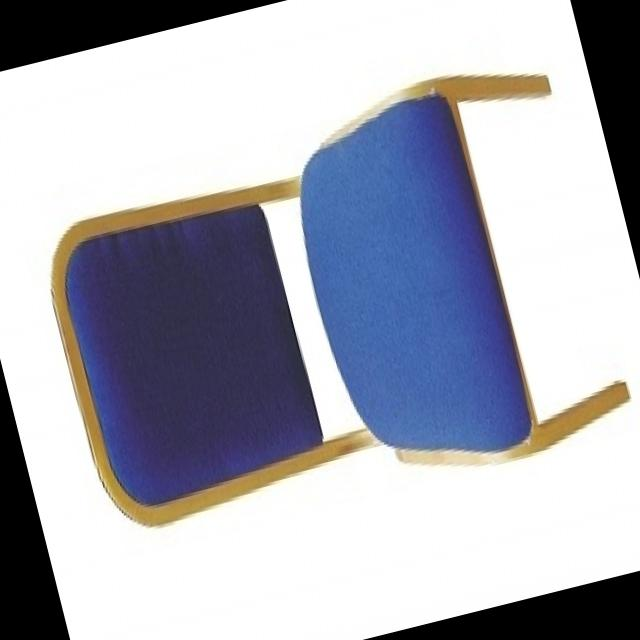Chair: (12, 44, 640, 563)
